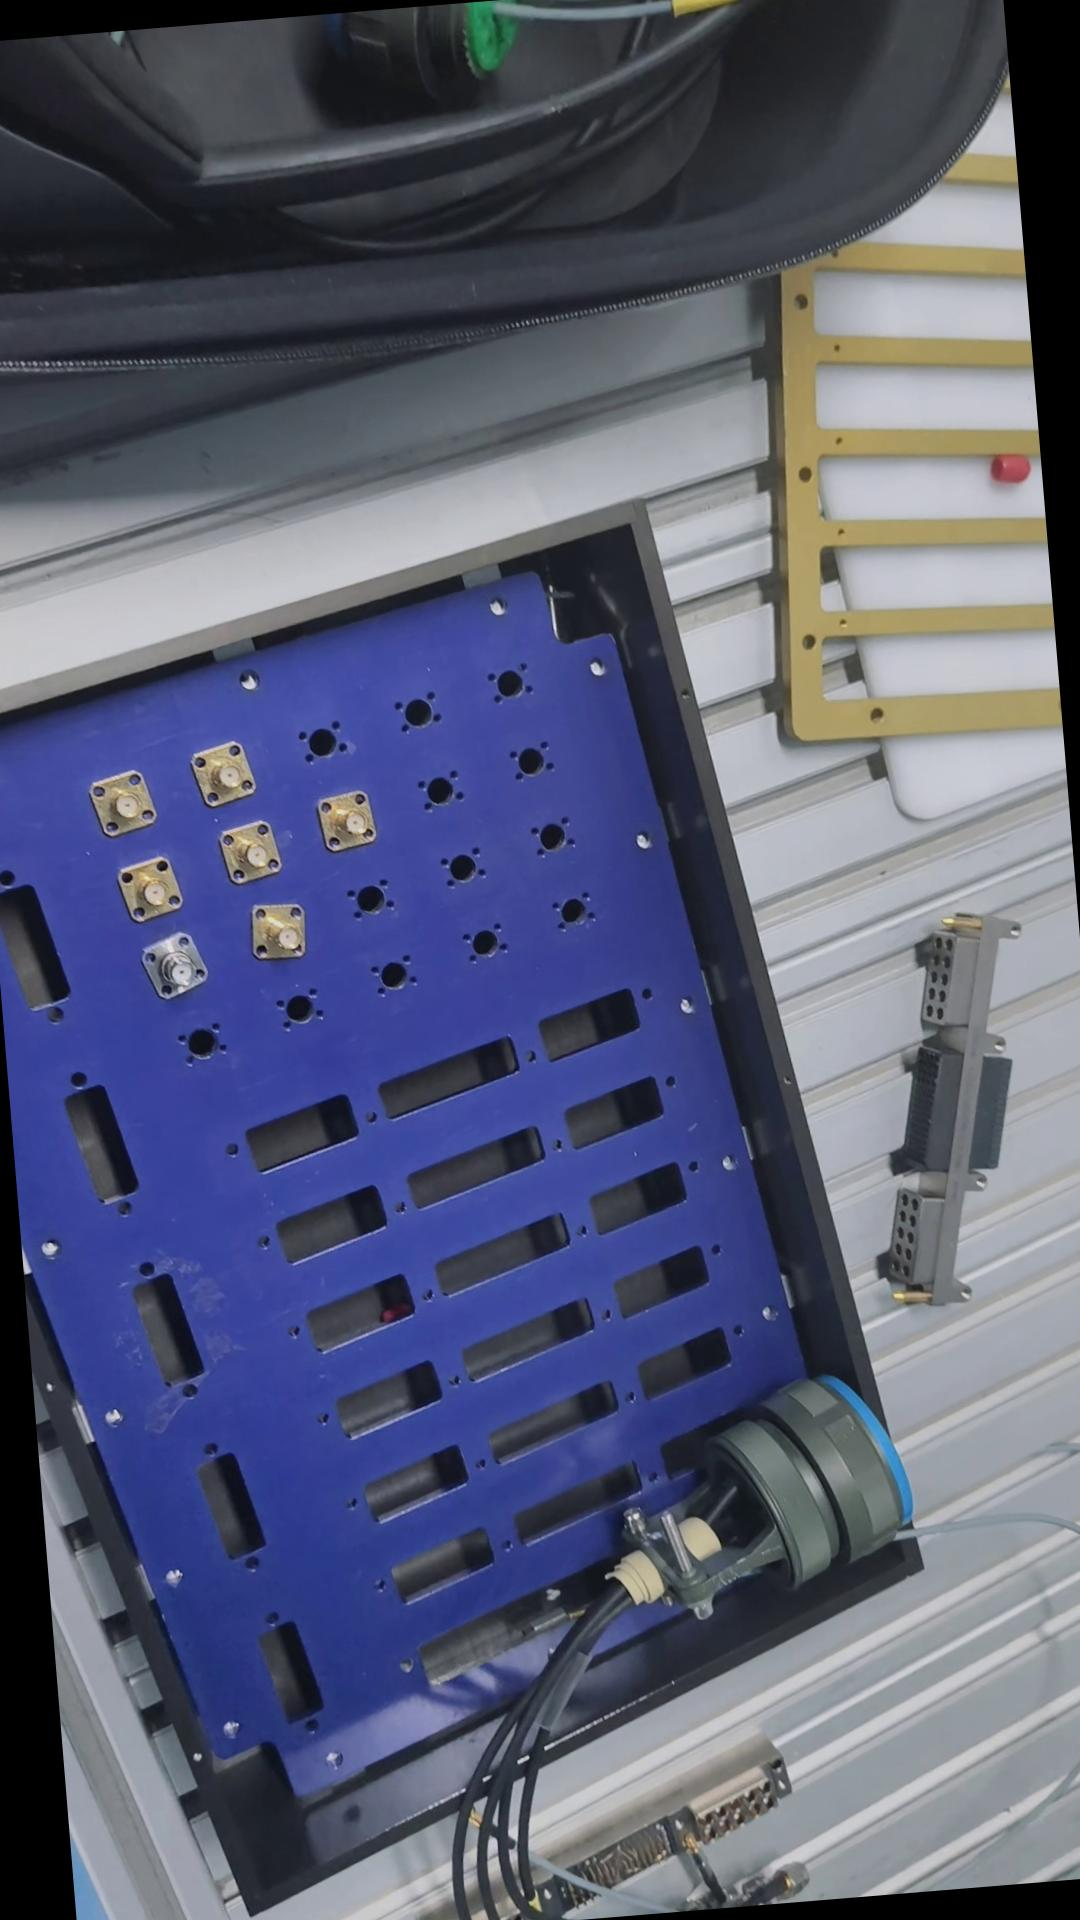SMA: (141, 924, 215, 1004), (119, 852, 194, 920), (88, 767, 160, 839), (216, 816, 289, 885), (249, 898, 320, 965), (194, 740, 261, 807), (316, 793, 385, 855)
